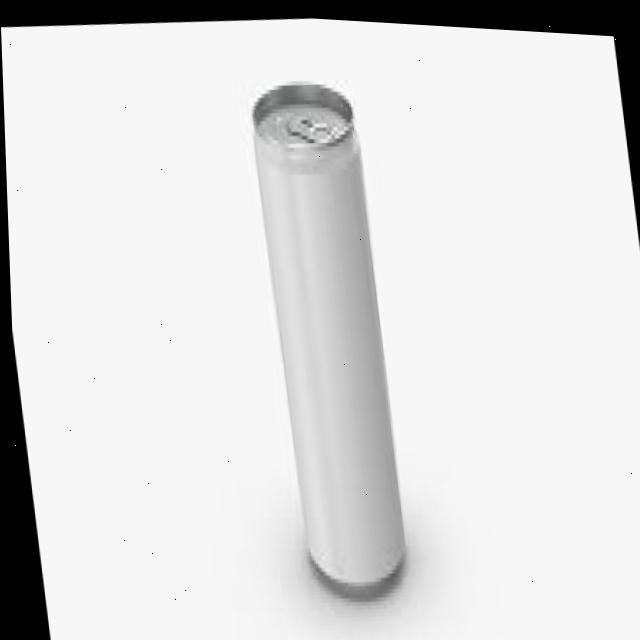Dry: (247, 66, 411, 596)
